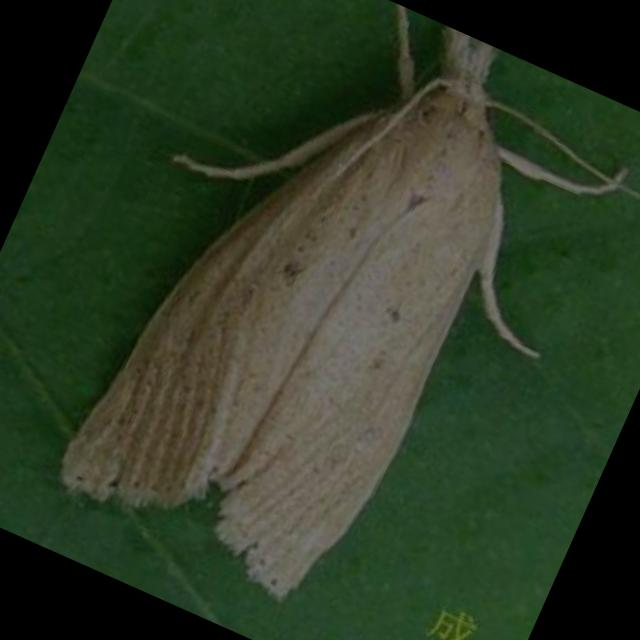stem-borer: (33, 0, 594, 638)
